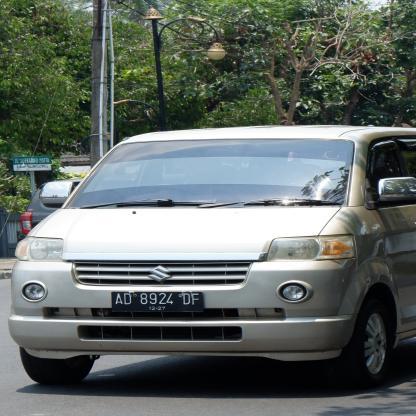Plat-Nomor: (108, 288, 207, 316)
